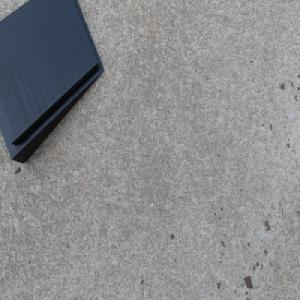PlasticPart: (0, 0, 105, 166)
